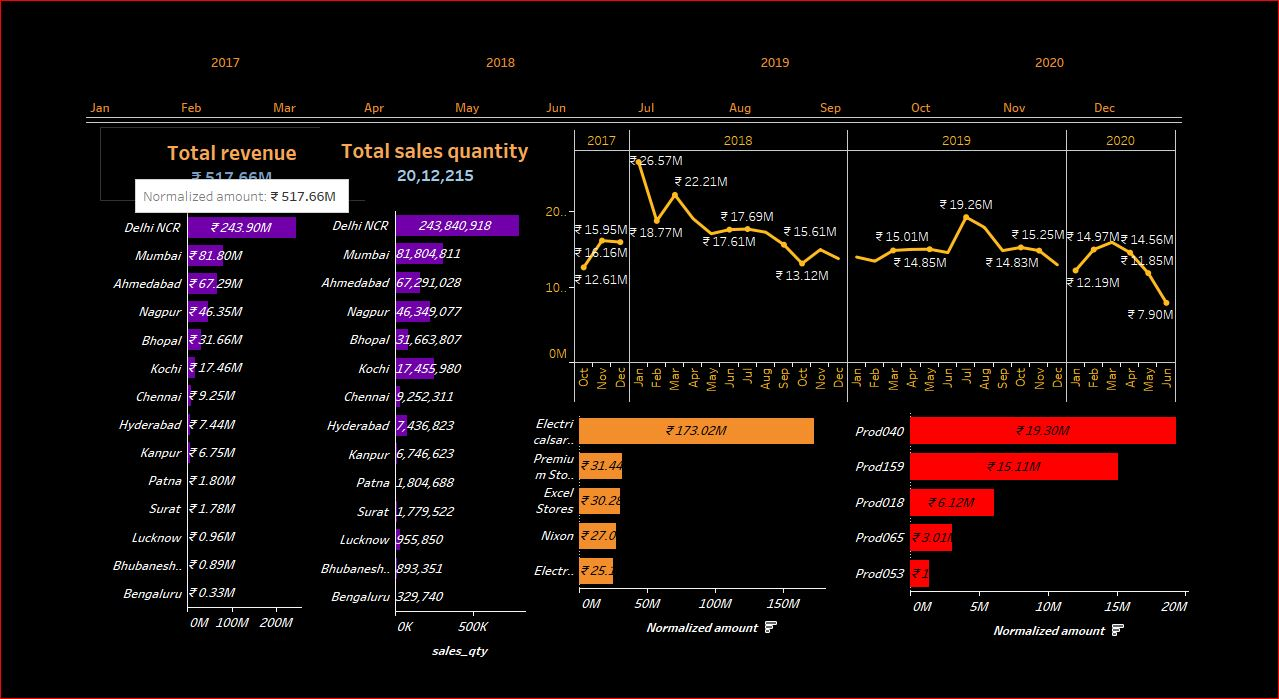

This screenshot's page, from the dashboard's own definition file:
{"tool":"tableau","page":{"name":"Dashboard 1","canvas":[1100,630],"ordinal":0},"visuals":[{"type":"worksheet","title":"Sales quantity","mark":"Automatic","box":[230,89,231,77]},{"type":"worksheet","title":"Revenue","mark":"Automatic","box":[8,91,268,77]},{"type":"worksheet","title":"Revenue by year","mark":"Automatic","rows":["Calculation_41095352788656128"],"cols":["cy_date","cy_date"],"box":[448,96,638,273]},{"type":"worksheet","title":"Sales qty by market","mark":"Automatic","rows":["markets_name"],"cols":["sales_qty"],"box":[221,177,215,456]},{"type":"worksheet","title":"Revenue by market","mark":"Automatic","rows":["markets_name"],"cols":["Calculation_41095352788656128"],"box":[17,179,195,425]},{"type":"worksheet","title":"Top 5 product by revenue","mark":"Automatic","rows":["product_code (products)"],"cols":["Calculation_41095352788656128"],"box":[740,379,359,233]},{"type":"worksheet","title":"Top 5 cust by revenue","mark":"Automatic","rows":["custmer_name"],"cols":["Calculation_41095352788656128"],"box":[441,380,295,229]}]}

Visuals, with their boxes in screenshot pixels (x1, y1, x2, y2):
"Sales quantity" worksheet: x1=409, y1=144, x2=653, y2=225
"Revenue" worksheet: x1=175, y1=146, x2=458, y2=227
"Revenue by year" worksheet: x1=640, y1=151, x2=1278, y2=440
"Sales qty by market" worksheet: x1=400, y1=237, x2=627, y2=698
"Revenue by market" worksheet: x1=184, y1=239, x2=390, y2=688
"Top 5 product by revenue" worksheet: x1=948, y1=450, x2=1278, y2=696
"Top 5 cust by revenue" worksheet: x1=632, y1=451, x2=944, y2=693
